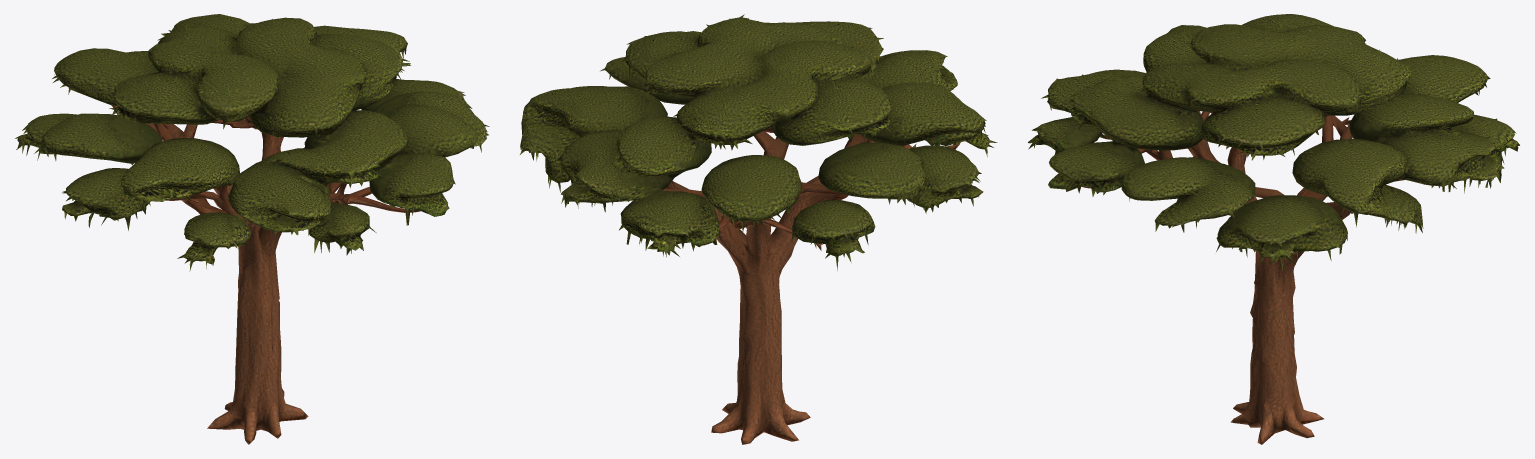
The picture shows the model from 3 angles, left to right: view 1: azimuth 30°, elevation 25°; view 2: azimuth 150°, elevation 25°; view 3: azimuth 270°, elevation 25°; orthographic projection.
Parts seen in each view (by area): view 1: tripo_node_1e435a04-c291-4277-afd4-1c6763cfd5df; view 2: tripo_node_1e435a04-c291-4277-afd4-1c6763cfd5df; view 3: tripo_node_1e435a04-c291-4277-afd4-1c6763cfd5df.
Part boxes in pixels (<box>): tripo_node_1e435a04-c291-4277-afd4-1c6763cfd5df: <box>15,14,489,444</box>; tripo_node_1e435a04-c291-4277-afd4-1c6763cfd5df: <box>520,14,997,444</box>; tripo_node_1e435a04-c291-4277-afd4-1c6763cfd5df: <box>1028,14,1519,444</box>.
Size of the model in its own units: 0.9821 by 0.836 by 1.
Materials: 1 (1 with a texture image).
